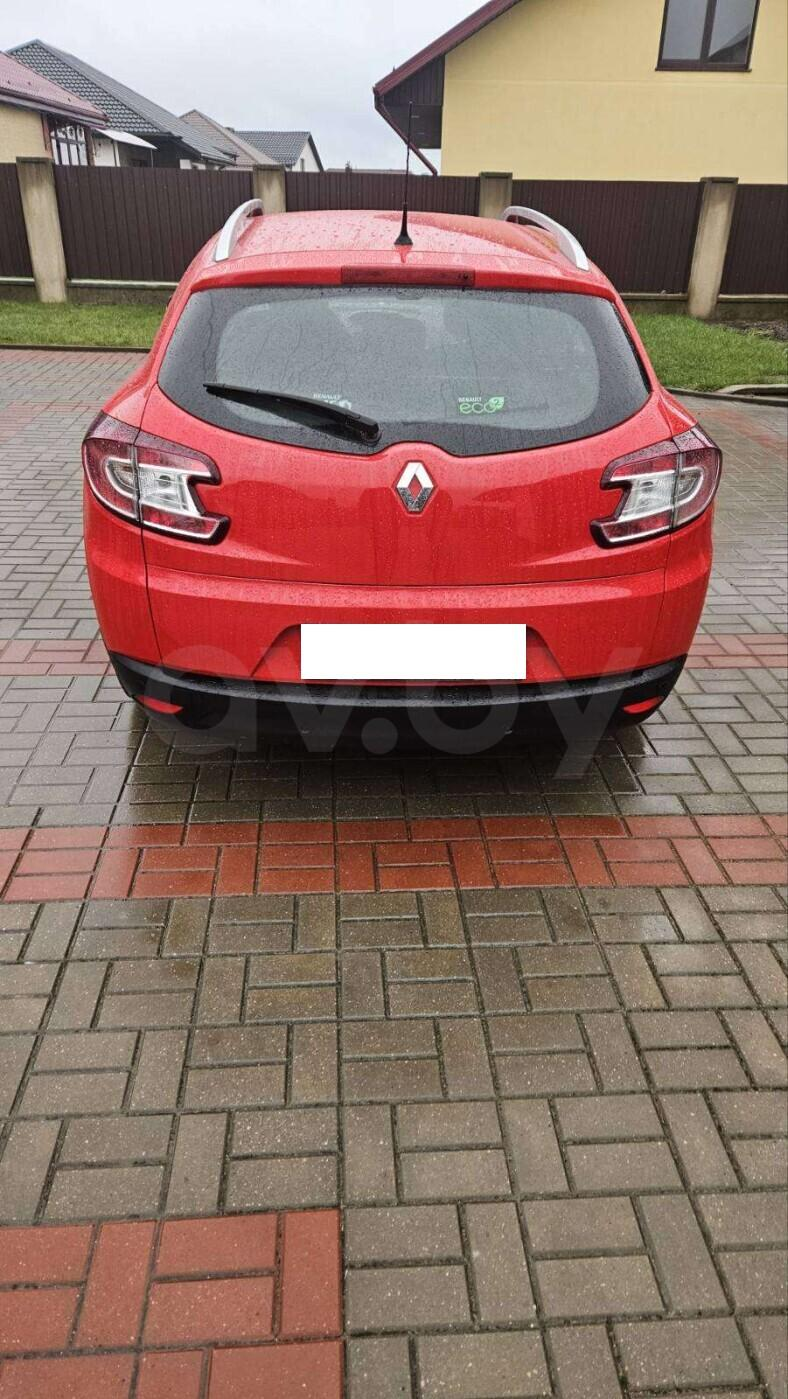Megane_2012-2014: (76, 196, 726, 772)
